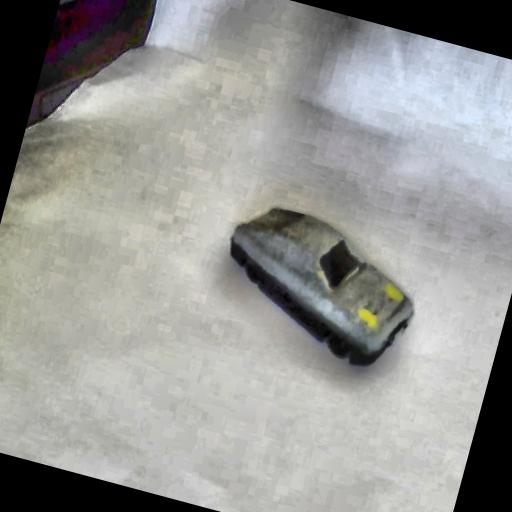normal_car: (204, 190, 433, 377)
